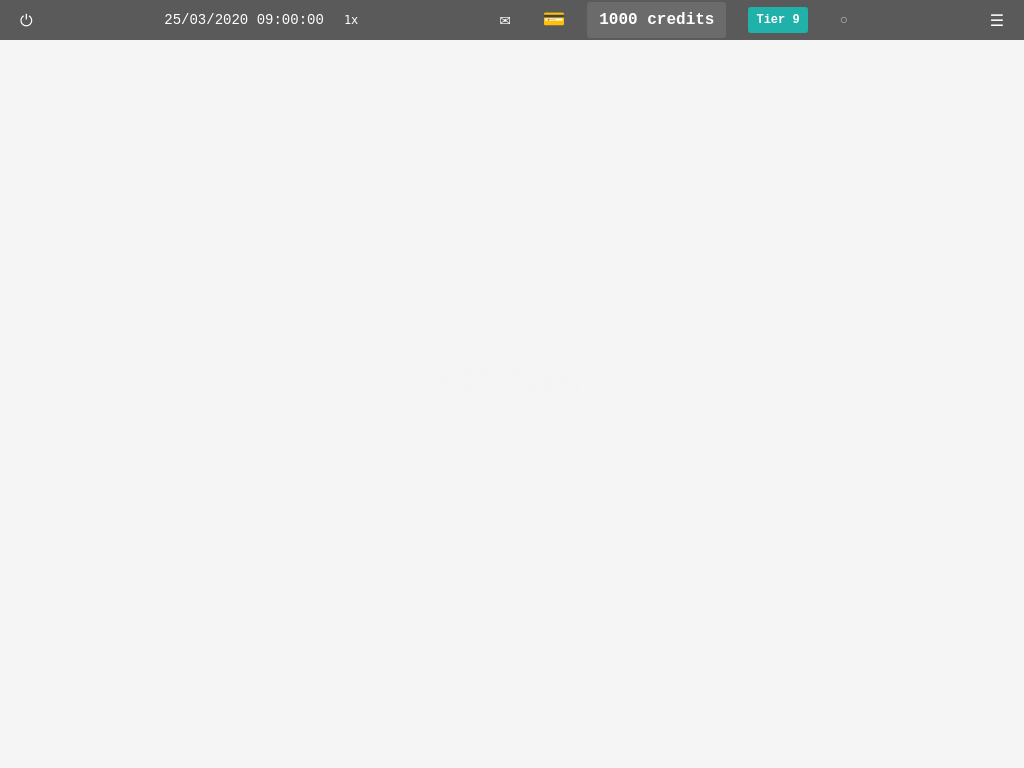
Scenario: Window Management Integration › should allow multiple instances of File Manager to be opened
# Open first File Manager instance
Hover over the button "☰": (997, 20) [982,6,1012,34]
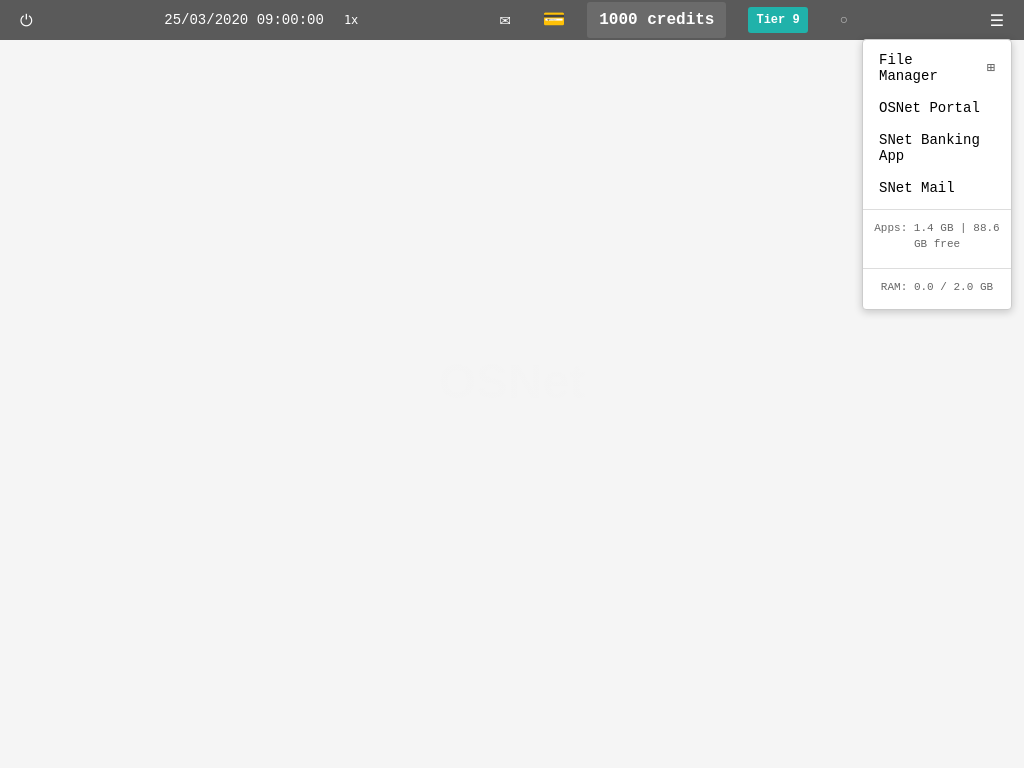
Expected: the button "File Manager ⊞" is shown
Click the button "File Manager ⊞": (937, 68) [863,44,1011,92]
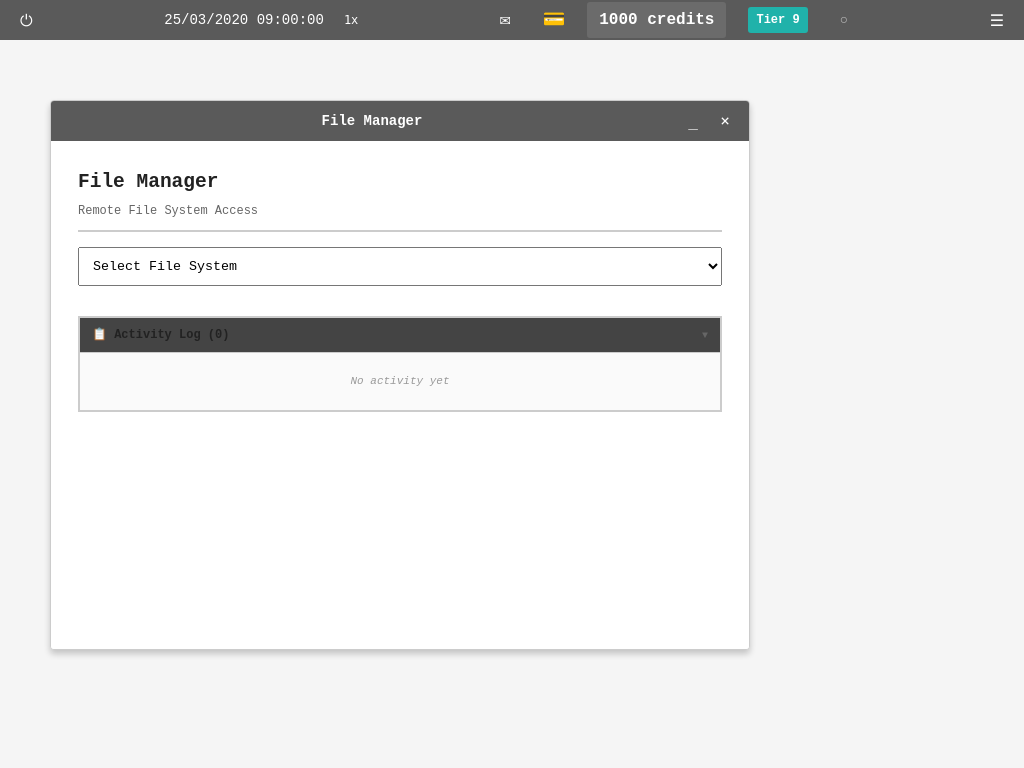
Expected: the number of elements with class "window" is 1, [50,100,750,650]
# Open second File Manager instance
Hover over the button "☰": (997, 20) [982,6,1012,34]
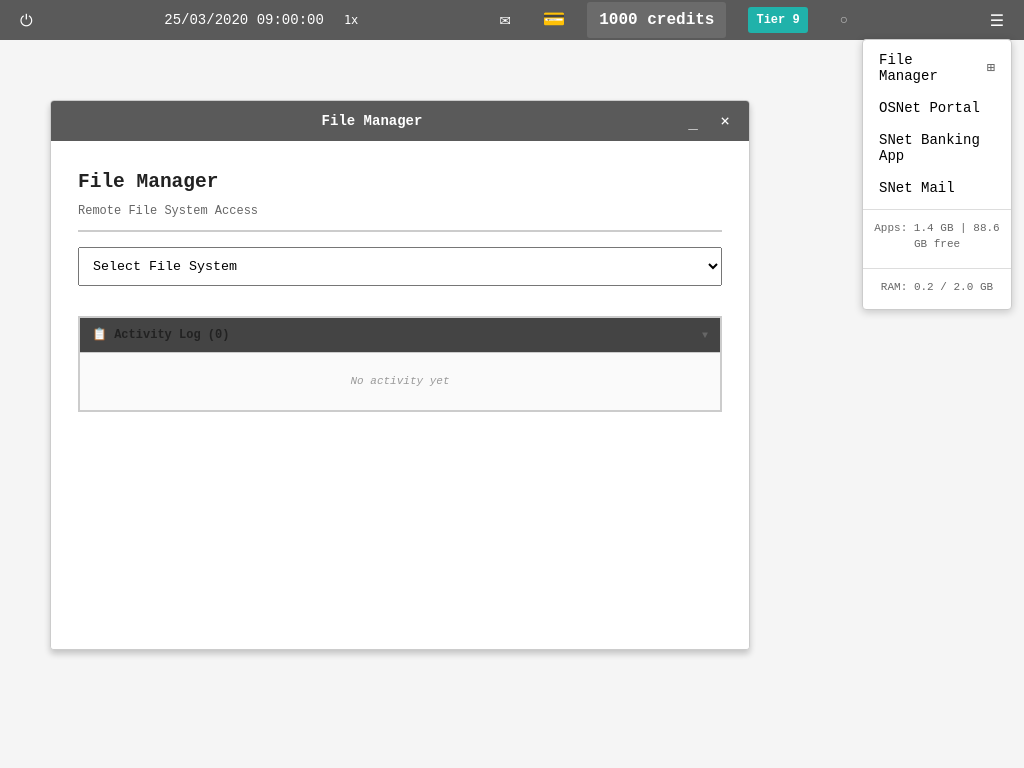
Expected: the button "File Manager ⊞" is shown
Click the button "File Manager ⊞": (937, 68) [863,44,1011,92]
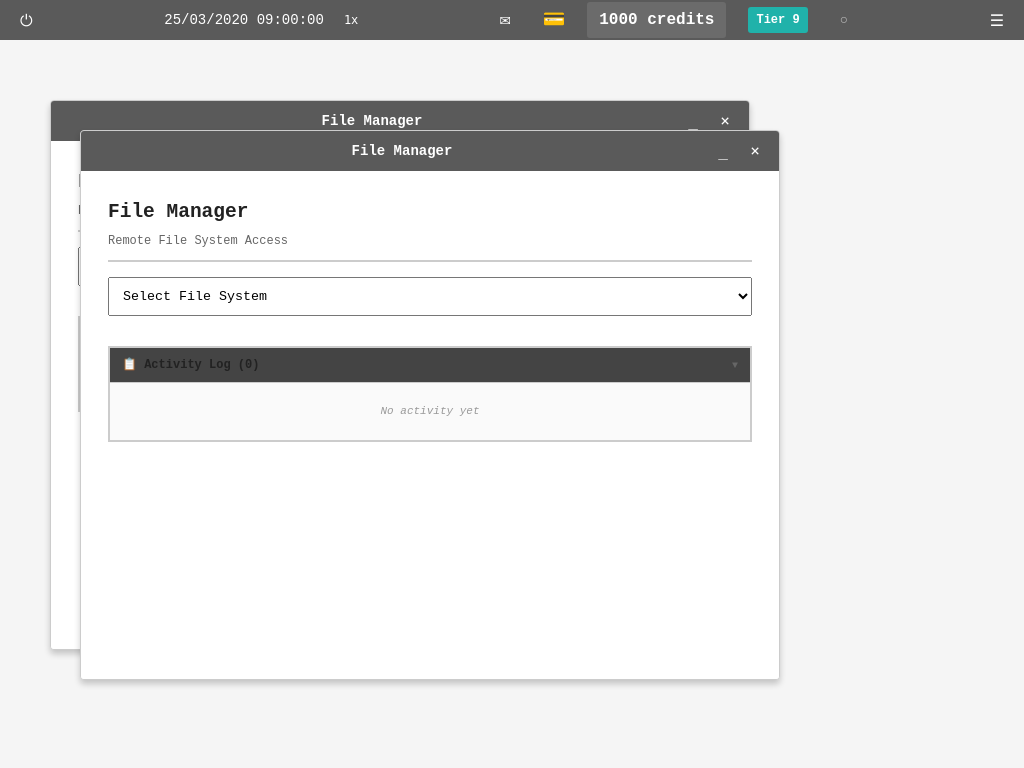
Expected: the 1st text with class "window-title" reads "File Manager", [322,112,422,128]
Expected: the number of elements with class "window" is 2, [50,100,750,650]; [80,130,780,680]
Expected: the number of elements with class "window-title" is 2, [322,112,422,128]; [352,142,452,158]
